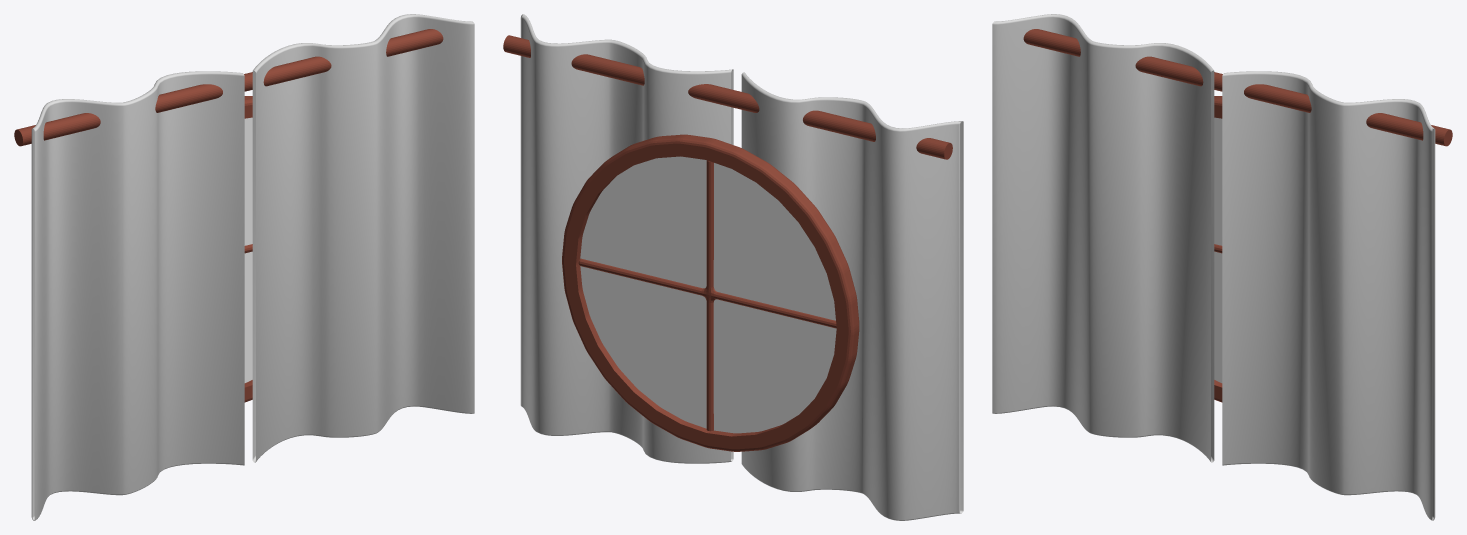
Rendered from fenetre_fermee.glb.
3 renders of one model, left to right at view 1: azimuth 30°, elevation 25°; view 2: azimuth 150°, elevation 25°; view 3: azimuth 330°, elevation 25°, orthographic.
Visible parts, largest first — view 1: BézierCurve.002, Cylinder.006, Cylinder.002; view 2: BézierCurve.002, Cylinder.002, Cylinder.001, Cylinder.006; view 3: BézierCurve.002, Cylinder.006, Cylinder.002.
Boxes of the visible parts, x1,y1,x2,y2 form: BézierCurve.002: [31, 14, 474, 520]; Cylinder.006: [14, 29, 443, 146]; Cylinder.002: [244, 117, 252, 382]; BézierCurve.002: [520, 14, 963, 520]; Cylinder.002: [580, 156, 836, 433]; Cylinder.001: [562, 134, 859, 451]; Cylinder.006: [503, 35, 952, 159]; BézierCurve.002: [992, 14, 1435, 520]; Cylinder.006: [1023, 29, 1452, 146]; Cylinder.002: [1214, 117, 1222, 382].
Bounding box in the file's own units: 0.6981 × 0.5929 × 0.1026.
